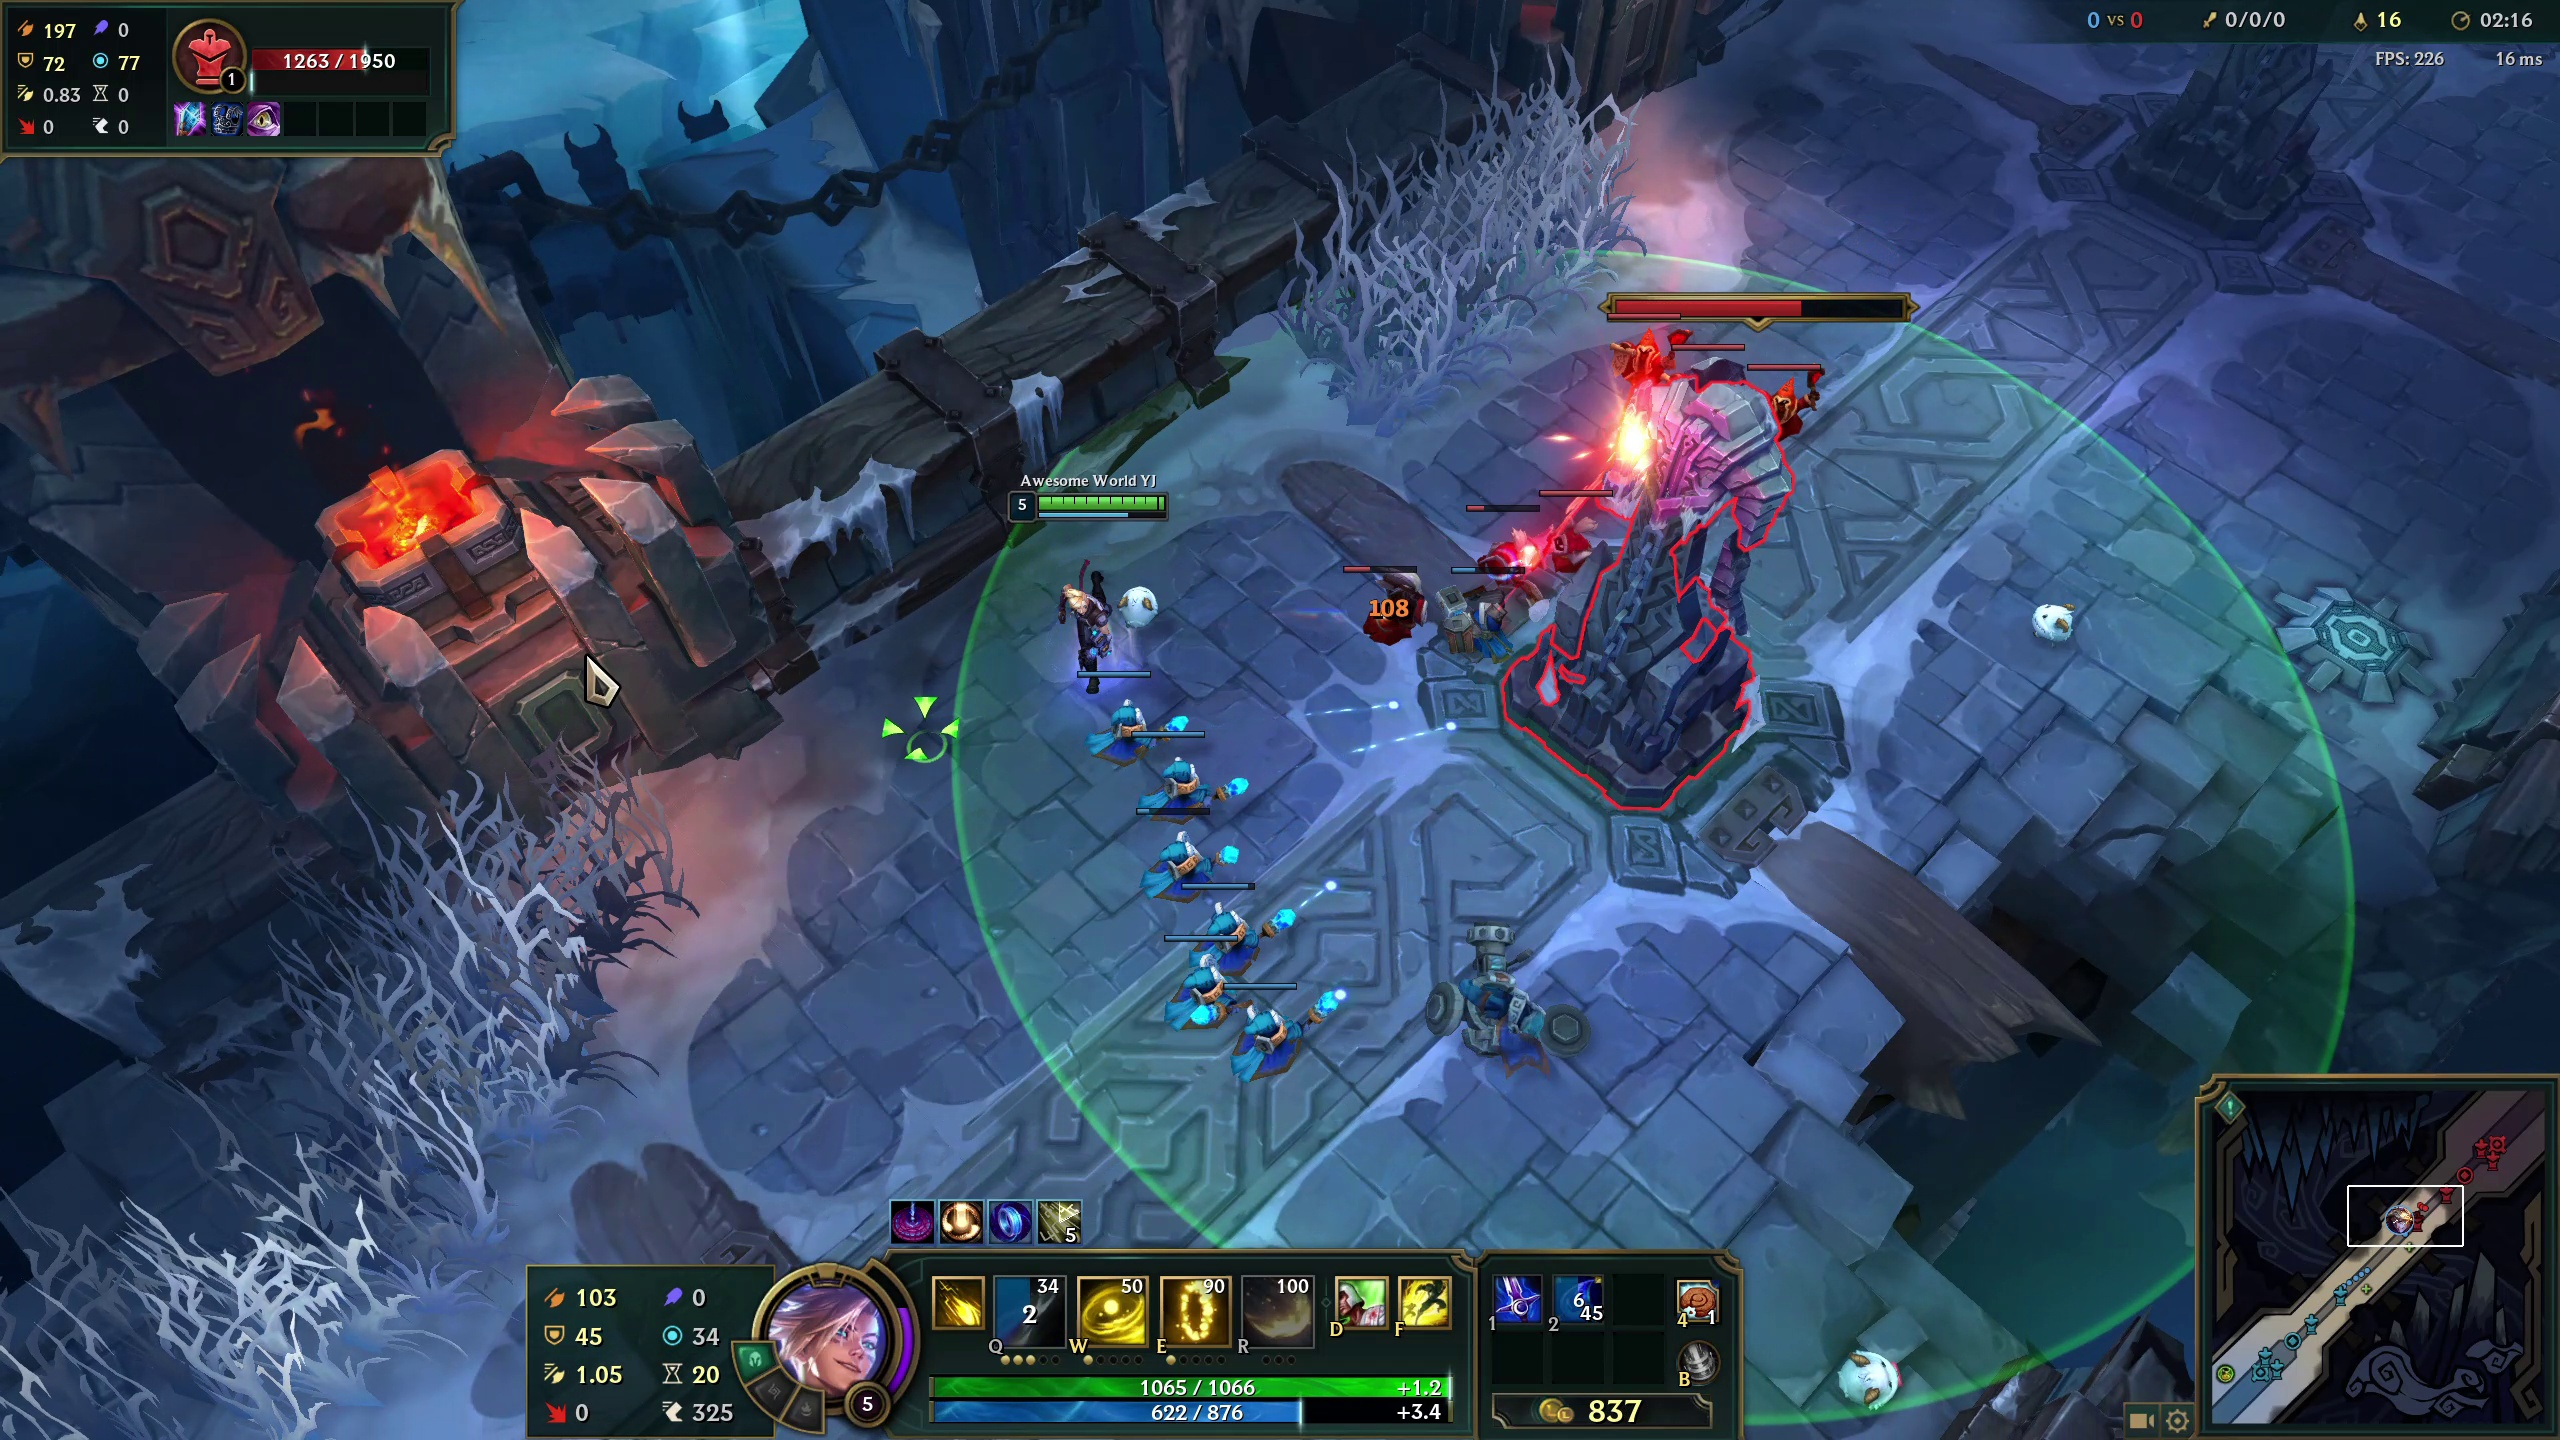EZ: (1013, 536, 1169, 765)
EnemyMinion: (1444, 482, 1551, 594), (1317, 550, 1422, 663), (1756, 348, 1832, 431), (1535, 482, 1611, 561)
Glass: (339, 828, 594, 1083), (1306, 149, 1567, 357), (76, 1268, 345, 1408)
MyMinion: (1164, 865, 1284, 969), (1131, 921, 1250, 1025), (1206, 974, 1326, 1078), (1120, 804, 1240, 905), (1118, 717, 1238, 819), (1057, 659, 1175, 761), (1438, 564, 1524, 658)
Turret: (1535, 376, 1815, 811), (2115, 21, 2354, 271)
